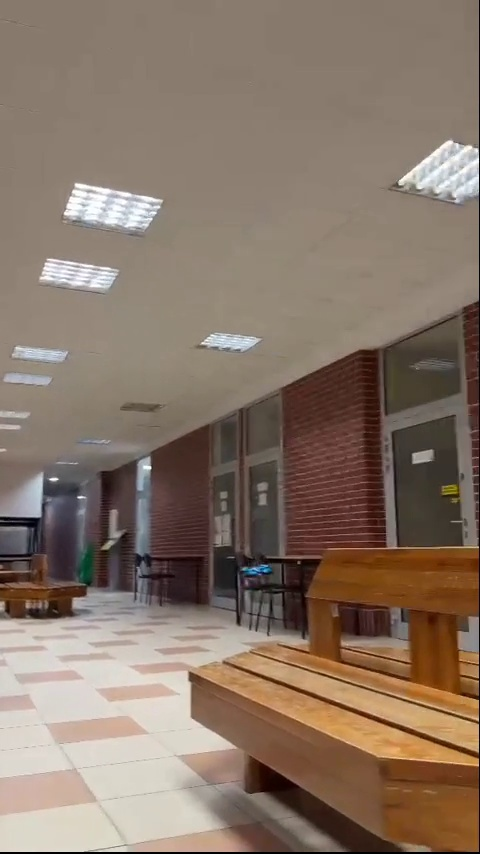drone: (241, 563, 274, 582)
